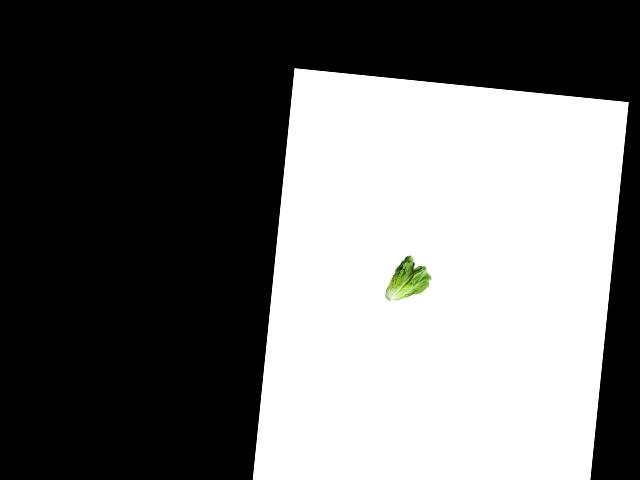lettuce: (383, 253, 439, 306)
